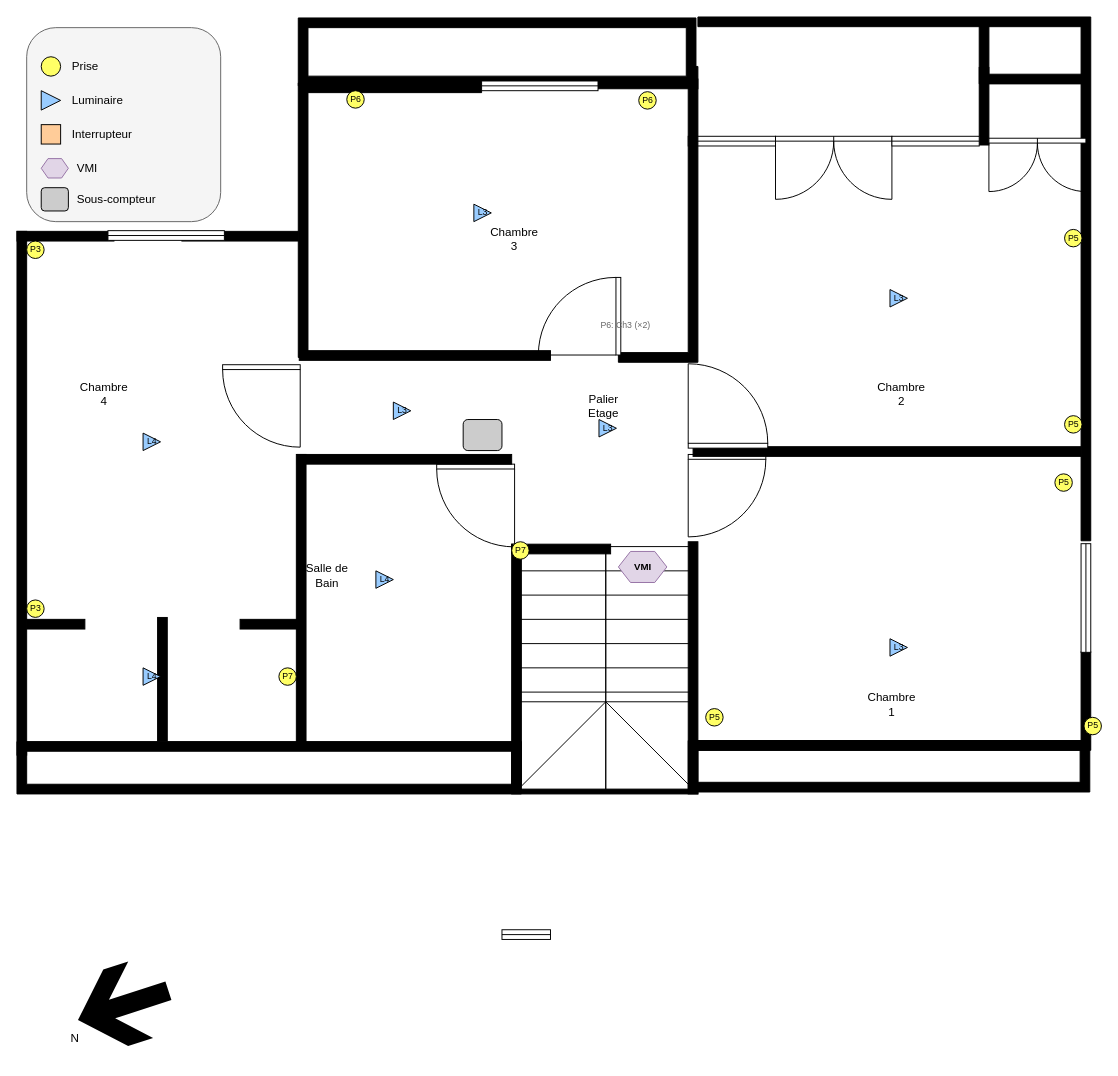
Image size: 1118x1076. Some labels were removed from this diagram. Here are the shapes that lost their labels. From the top down, the box of each, then its label:
(26, 27, 221, 222): LÉGENDE
(462, 419, 502, 451): SC
